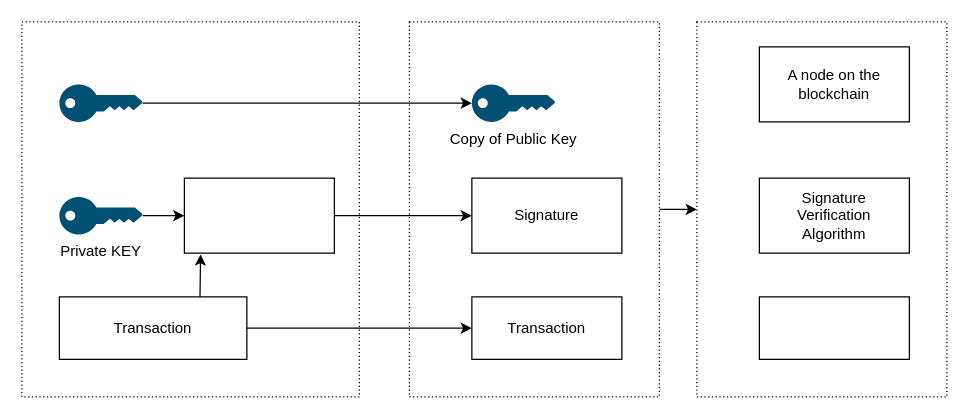
This 969x419 diagram has some shape labels left out. Each missing label, with the box of its shape:
Public KEY: (59, 84, 142, 121)
Signing Algorithm: (183, 177, 334, 253)
Transaction Authenticated: (758, 296, 909, 359)
